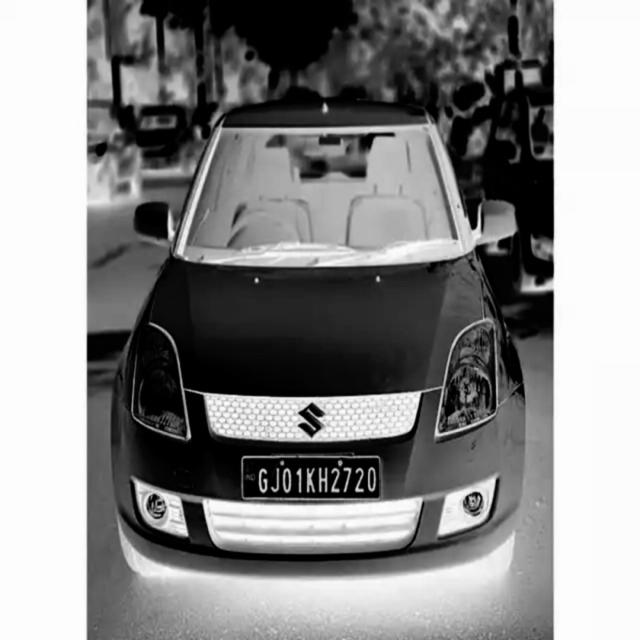0: (282, 466, 292, 494), (367, 465, 376, 492)
1: (296, 467, 304, 495)
2: (330, 466, 341, 494), (356, 467, 365, 493)
7: (343, 466, 352, 494)
G: (258, 468, 268, 494)
H: (319, 465, 328, 493)
IND: (242, 460, 256, 486)
Indian_registered: (241, 456, 380, 500)
J: (270, 468, 281, 494)
K: (306, 465, 316, 493)
